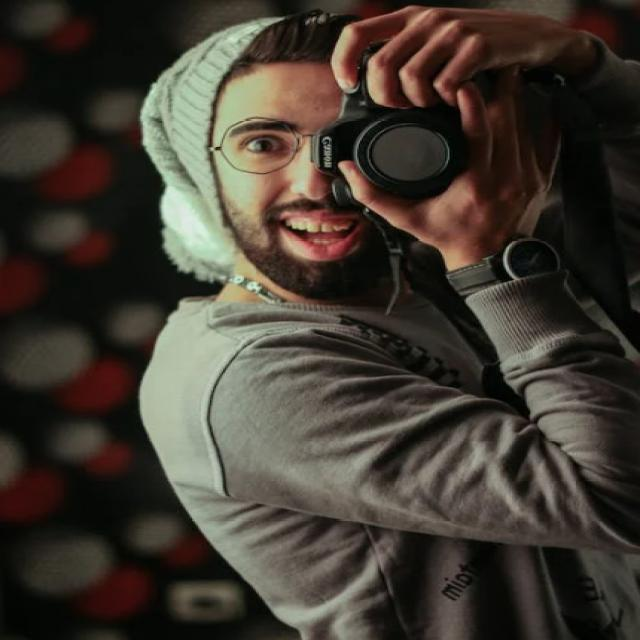Watch: (443, 230, 568, 294)
